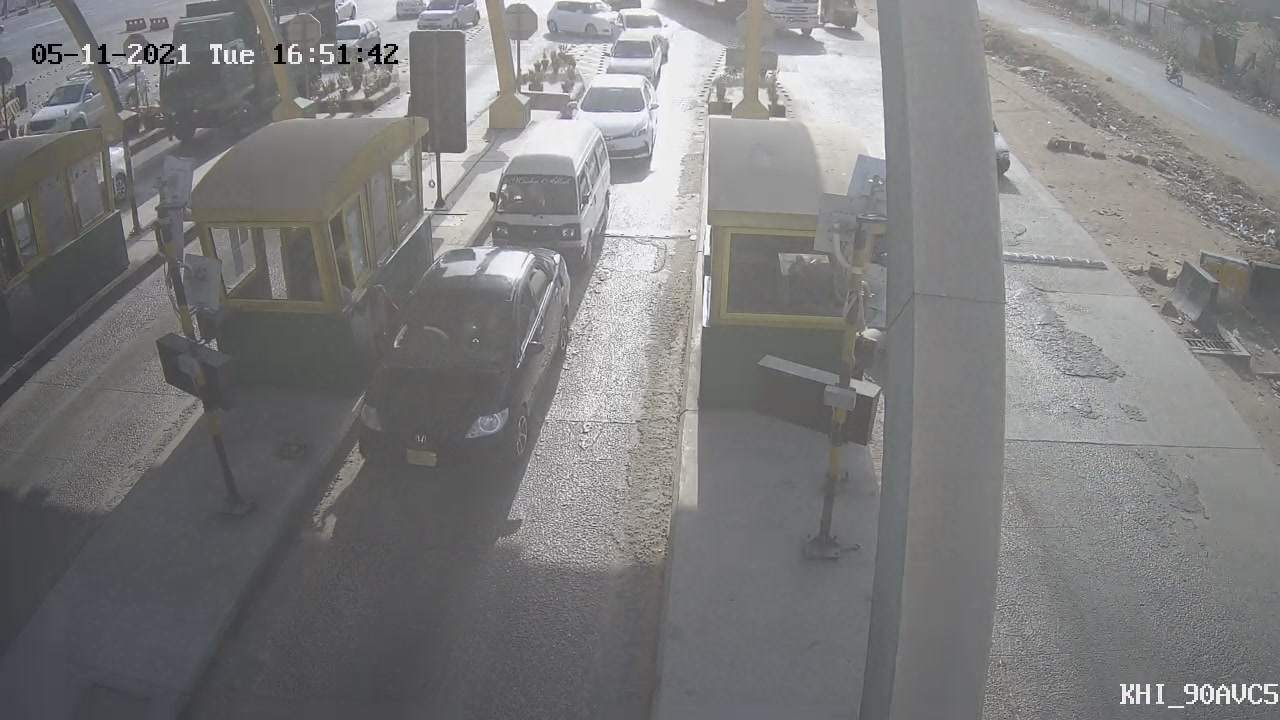F1: (333, 231, 599, 504), (473, 108, 627, 291)
